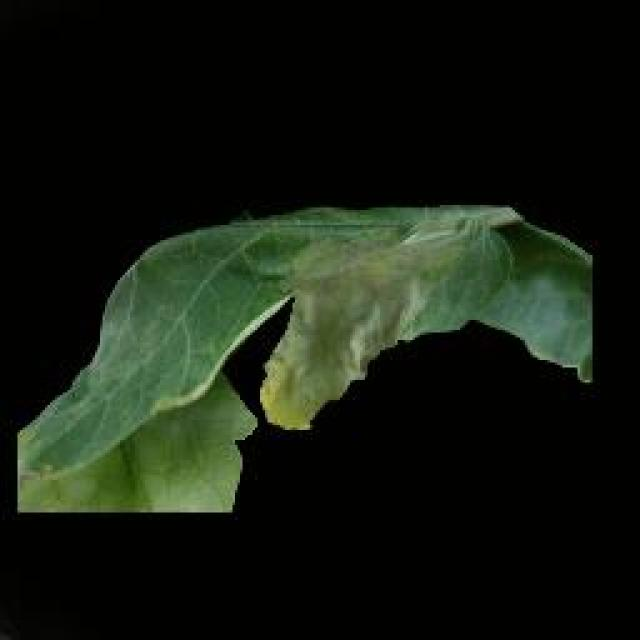Tomato Late Blight: (252, 208, 518, 365)
